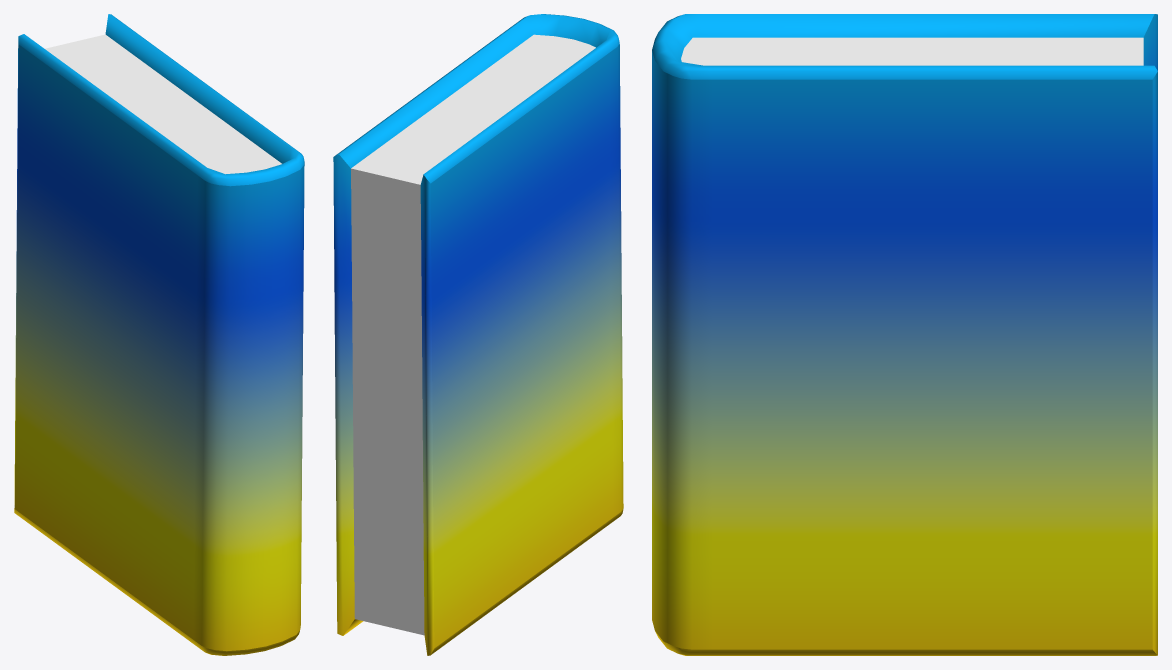
File: Book_4.fbx
3 views of the same model, side by side, from view 1: azimuth 30°, elevation 25°; view 2: azimuth 150°, elevation 25°; view 3: azimuth 270°, elevation 25° (orthographic). The views are drawn at different scales.
Parts seen in each view (by area): view 1: Book_4; view 2: Book_4; view 3: Book_4.
Boxes of the visible parts, x1,y1,x2,y2 form: Book_4: (14, 14, 304, 655); Book_4: (333, 14, 623, 655); Book_4: (652, 14, 1157, 655).
Bounding box in the file's own units: 0.1012 × 0.4634 × 0.358.
